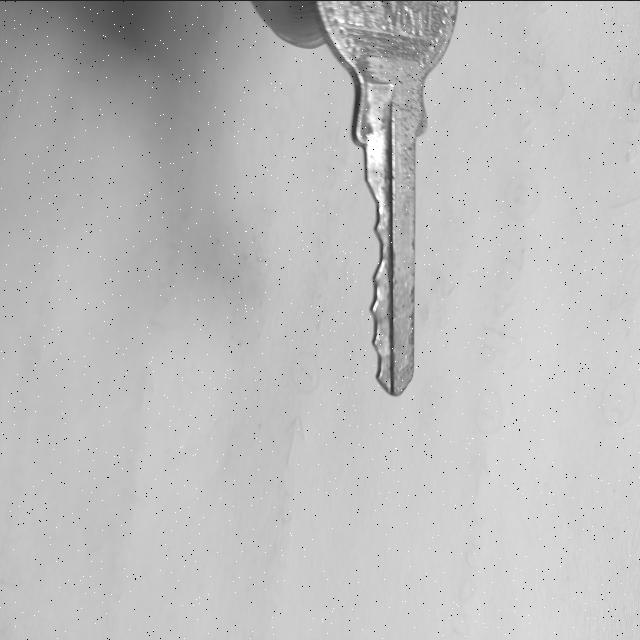key: (315, 0, 458, 394)
